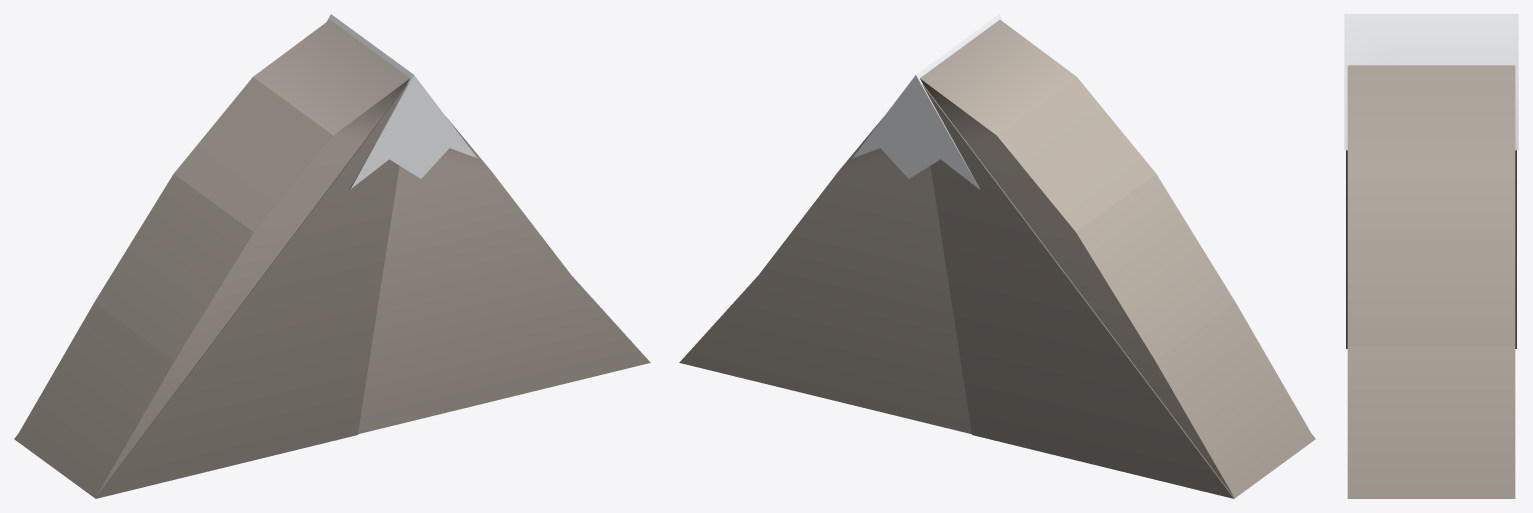
The model's file is Mountain_Peak2.fbx.
The picture shows the model from 3 angles, left to right: view 1: azimuth 30°, elevation 25°; view 2: azimuth 150°, elevation 25°; view 3: azimuth 270°, elevation 25°; orthographic projection. The views are drawn at different scales.
Parts seen in each view (by area): view 1: Mountain_Peak2; view 2: Mountain_Peak2; view 3: Mountain_Peak2.
Part boxes in pixels (box(x1,y1,x2,y2)): Mountain_Peak2: box(14, 14, 650, 498); Mountain_Peak2: box(679, 14, 1315, 498); Mountain_Peak2: box(1344, 14, 1518, 498).
Bounding box in the file's own units: 11 × 6.57 × 2.85.
